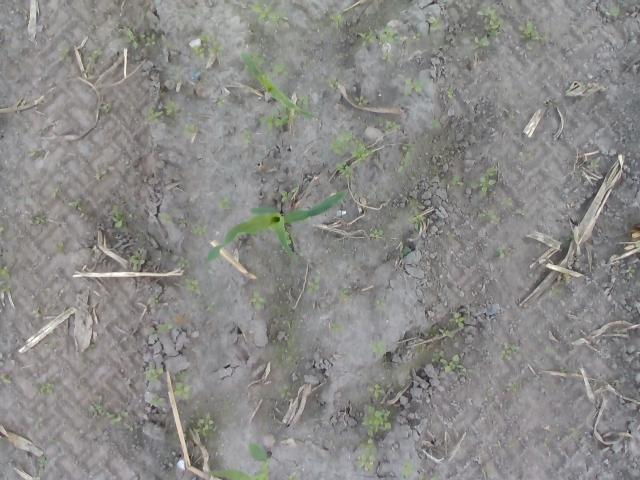Maize: (206, 186, 349, 263), (240, 52, 317, 120), (206, 443, 272, 480)
Weeds: (358, 27, 401, 63), (88, 396, 130, 425), (430, 350, 474, 376), (258, 104, 298, 132), (249, 0, 288, 27), (361, 405, 392, 437), (110, 198, 139, 232), (518, 20, 548, 50), (476, 6, 504, 37), (471, 166, 496, 197), (193, 34, 225, 57), (357, 438, 378, 471), (350, 138, 373, 167), (396, 140, 416, 172), (328, 129, 353, 154), (194, 412, 218, 438), (155, 210, 188, 228), (172, 372, 193, 400), (408, 199, 426, 229), (115, 27, 138, 49), (142, 363, 164, 384), (270, 186, 298, 202), (375, 117, 401, 134), (128, 248, 146, 272), (150, 322, 173, 340), (402, 76, 422, 96), (498, 340, 518, 360), (248, 291, 267, 311), (336, 161, 355, 180), (448, 312, 468, 329), (478, 209, 500, 224), (554, 272, 570, 292), (184, 277, 202, 294), (306, 275, 321, 294), (189, 222, 209, 236), (470, 36, 490, 50), (428, 15, 445, 31), (146, 108, 163, 124), (272, 60, 288, 77), (400, 460, 416, 477), (86, 46, 102, 63), (276, 383, 292, 400), (38, 380, 56, 395), (140, 32, 156, 48), (329, 13, 345, 29), (214, 196, 232, 210), (27, 416, 45, 430), (163, 102, 180, 116), (249, 51, 266, 65), (368, 384, 385, 398), (148, 394, 166, 407), (68, 198, 84, 212), (369, 341, 386, 354), (284, 230, 297, 246), (368, 229, 384, 241), (58, 47, 72, 60), (331, 320, 345, 333), (438, 327, 454, 338), (450, 176, 464, 188), (0, 264, 10, 280), (326, 76, 339, 88), (354, 95, 368, 106), (398, 246, 412, 257), (242, 129, 252, 144), (28, 147, 44, 156), (183, 124, 195, 136), (506, 380, 518, 392), (338, 288, 350, 300), (604, 7, 620, 16), (518, 152, 532, 162), (48, 187, 62, 197), (376, 298, 388, 309), (149, 295, 161, 306), (0, 373, 12, 384), (176, 256, 188, 267), (299, 93, 309, 106), (500, 196, 513, 206), (496, 246, 506, 259), (0, 282, 12, 292), (418, 474, 438, 480), (39, 454, 48, 467), (515, 208, 529, 216), (428, 119, 439, 129), (626, 266, 636, 277), (206, 301, 217, 311), (32, 308, 43, 318), (412, 31, 422, 42), (56, 240, 64, 253), (590, 158, 600, 168), (216, 96, 226, 106), (482, 467, 492, 477), (34, 216, 46, 224), (446, 88, 454, 100), (288, 473, 301, 480), (565, 231, 574, 240), (126, 424, 135, 433), (101, 104, 111, 112), (507, 113, 515, 122), (570, 428, 578, 436), (88, 344, 96, 352), (0, 224, 5, 234), (450, 232, 456, 237), (636, 241, 640, 248)
